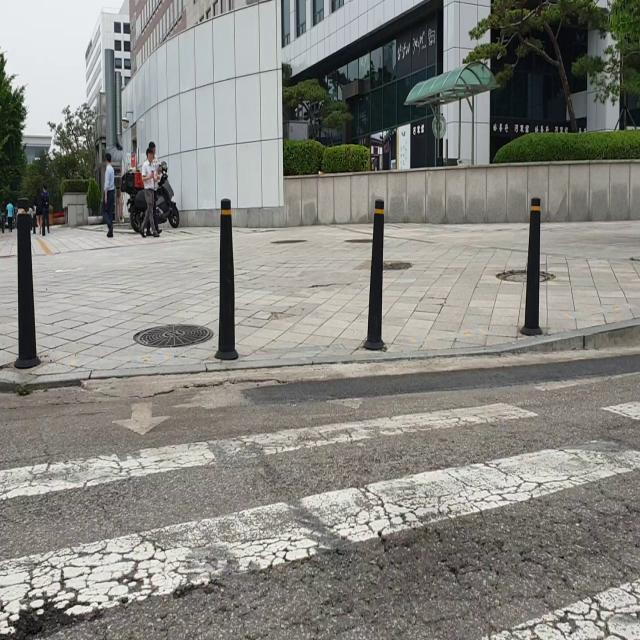횡단보도: (4, 394, 636, 633)
